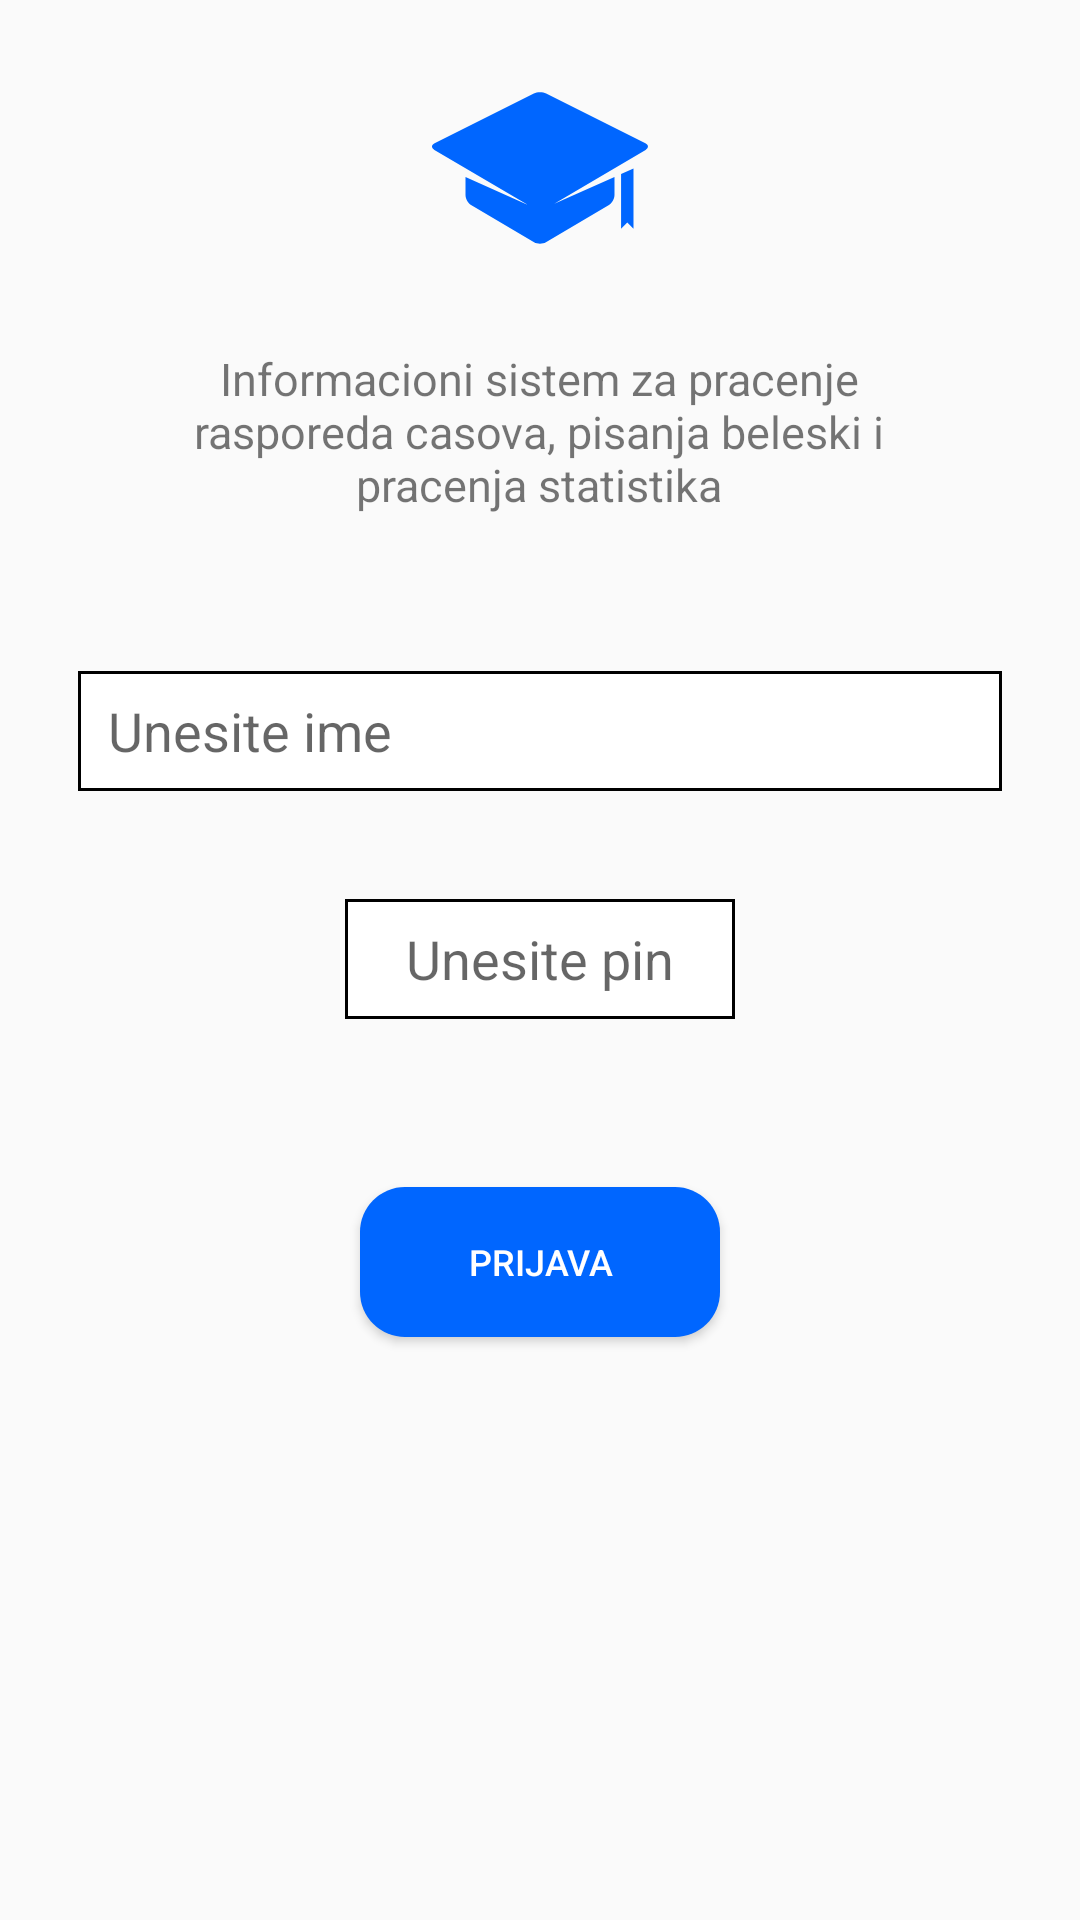

Screen size 1080px x 1920px. Icon name, then its box in pixels as (x1, y1, x2, y2):
graduation cap: (432, 92, 648, 244)
